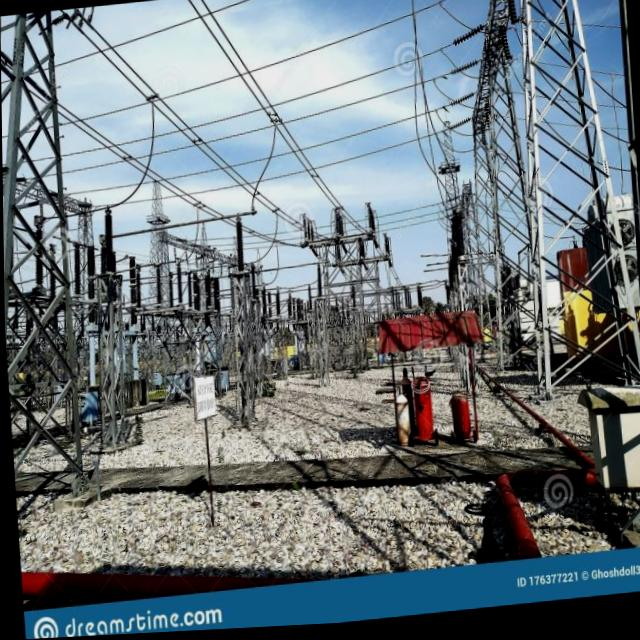FireExtinguisher: (403, 370, 436, 450), (442, 386, 477, 453)
